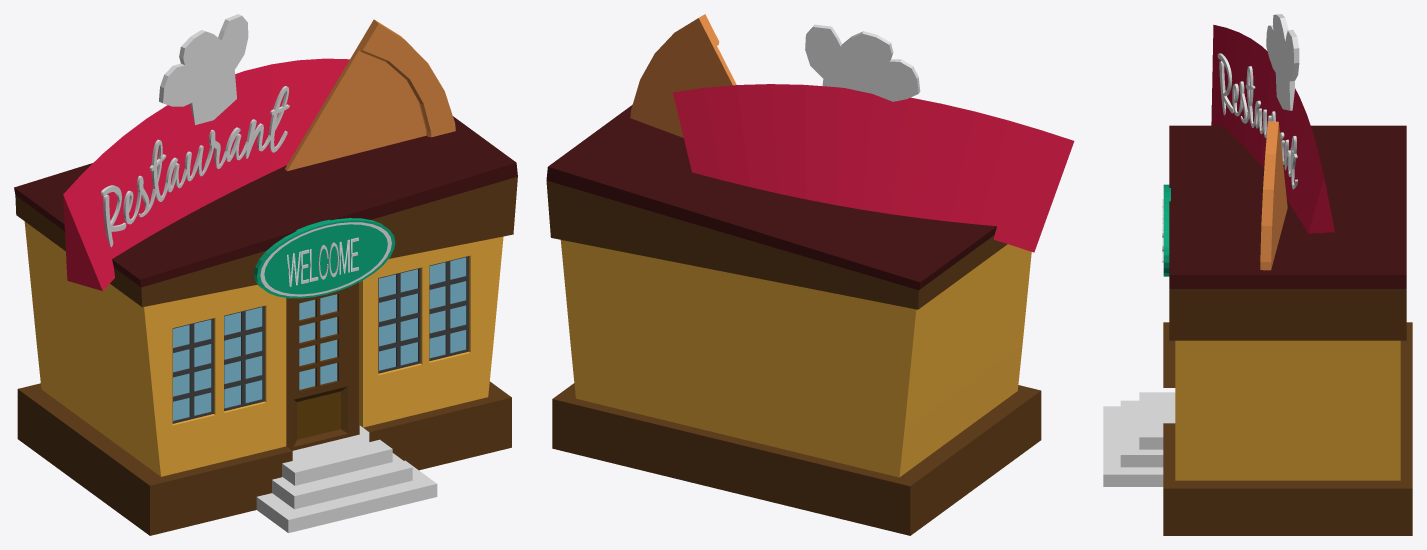
The model's file is restaurant.fbx.
The picture shows the model from 3 angles, left to right: view 1: azimuth 30°, elevation 25°; view 2: azimuth 150°, elevation 25°; view 3: azimuth 270°, elevation 25°; orthographic projection. The views are drawn at different scales.
Parts seen in each view (by area): view 1: restaurant 01].001; view 2: restaurant 01].001; view 3: restaurant 01].001.
Part boxes in pixels (x1,y1,x2,y2): restaurant 01].001: (14,14,517,535); restaurant 01].001: (546,14,1074,535); restaurant 01].001: (1103,14,1412,535).
Bounding box in the file's own units: 376 × 359 × 248.
